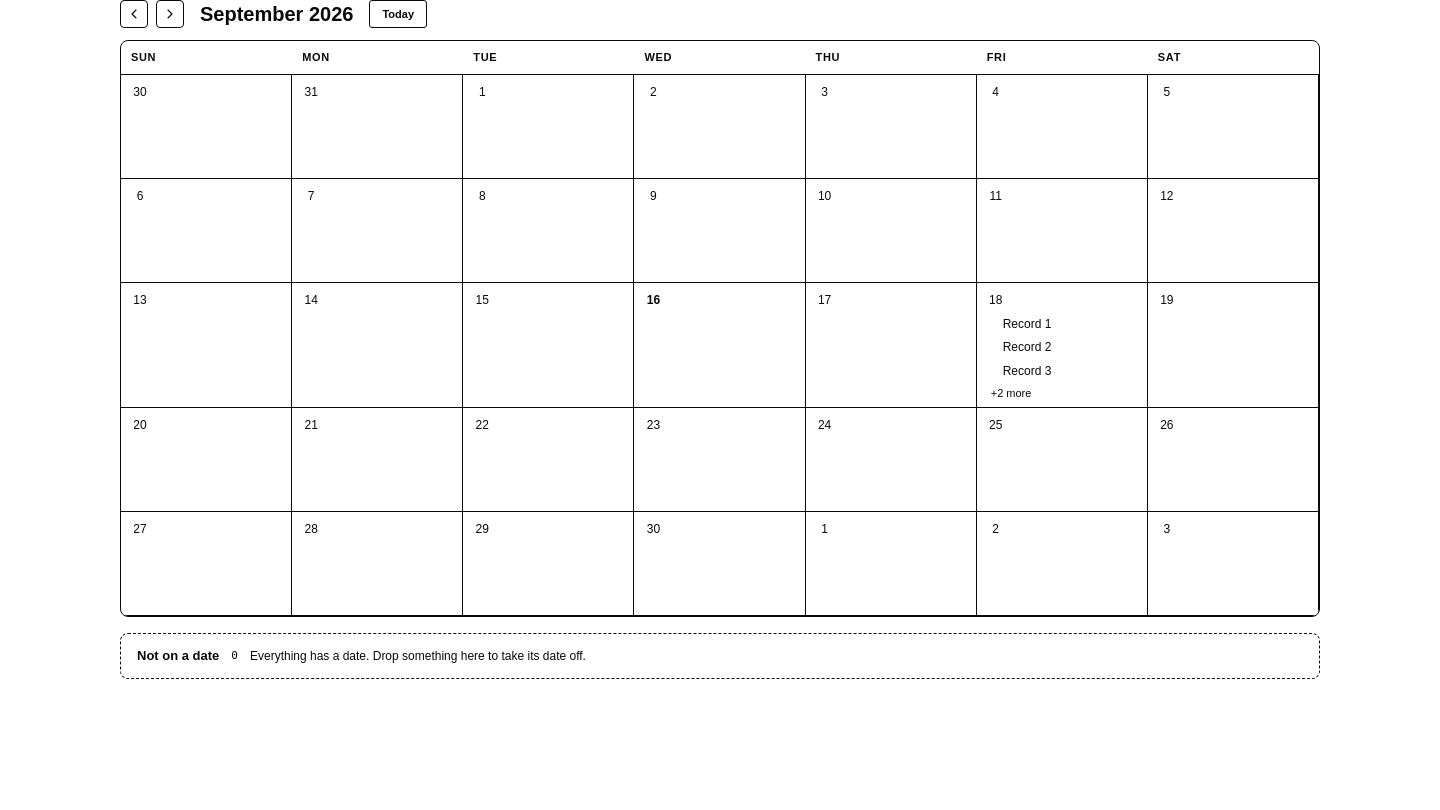
Test: UnifiedCalendar › collapses a busy day behind "+N more", listing the whole day
The image size is (1440, 810).
Expected: the text "Record 1" is shown, [1003,316,1051,332]
Expected: the text "Record 4" is not shown
Click the button with aria-label "Show all 5 on" at x=1062, y=393, box [985,385,1139,401]
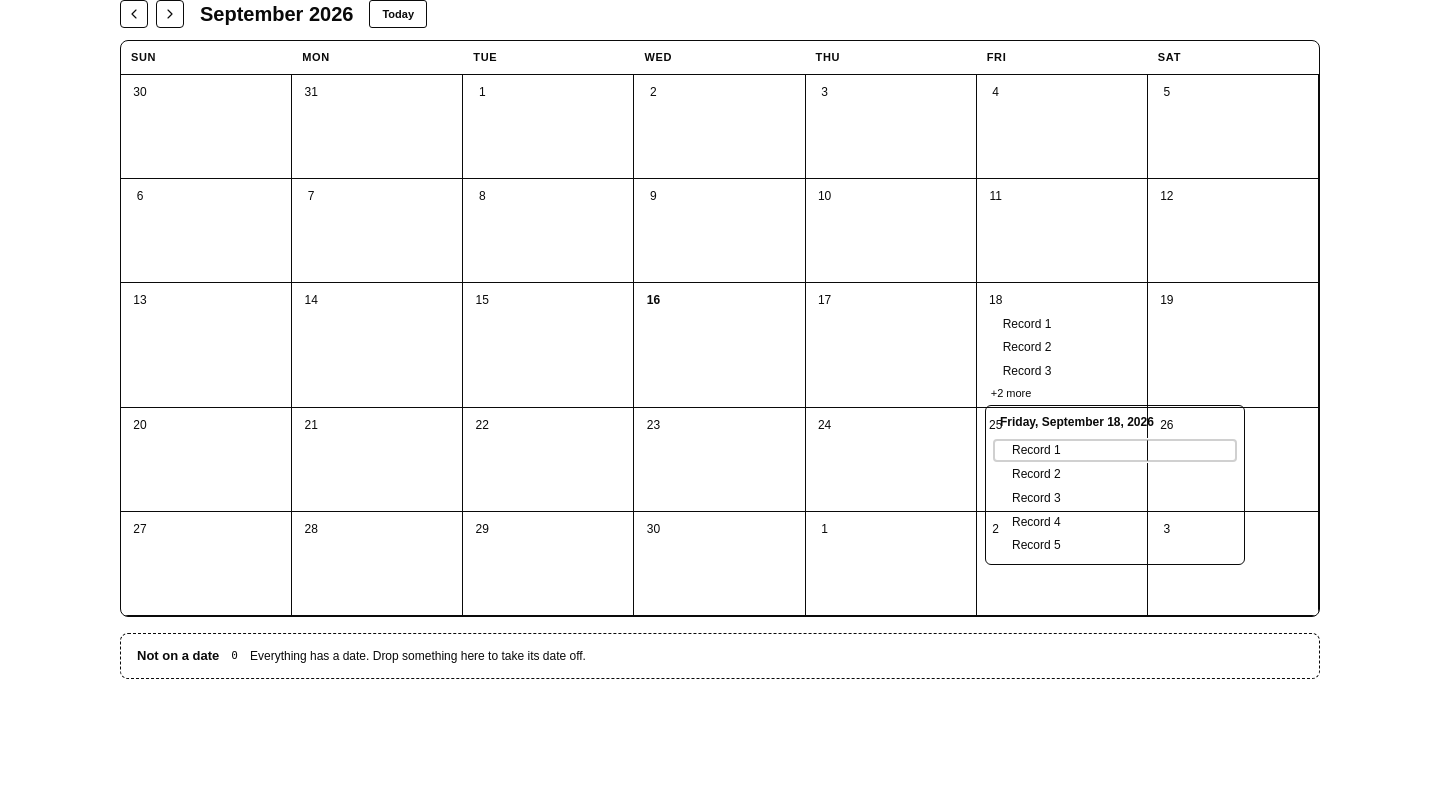
Expected: the button "Record 5" is shown, [994,535,1236,556]
